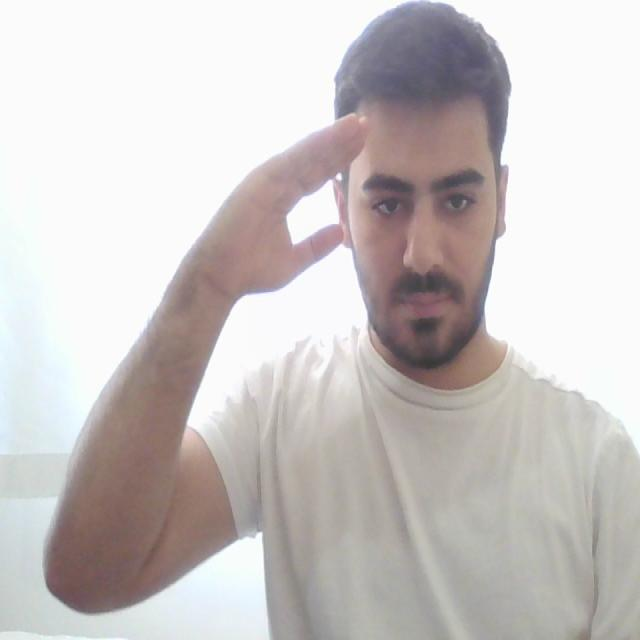Merhaba: (191, 82, 400, 343)
